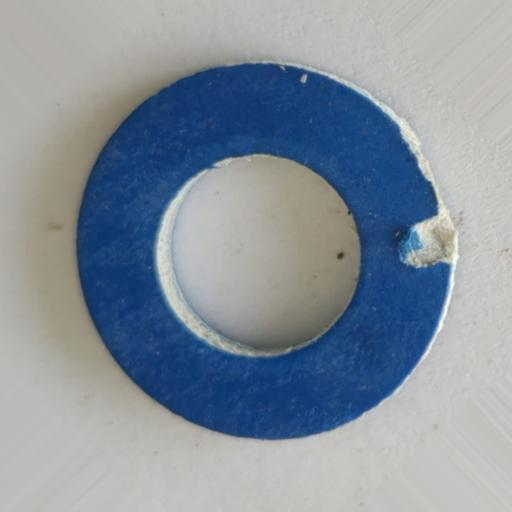defect: (392, 212, 457, 271)
